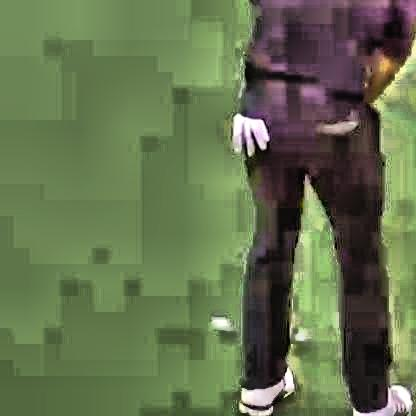golfball: (206, 314, 229, 331)
